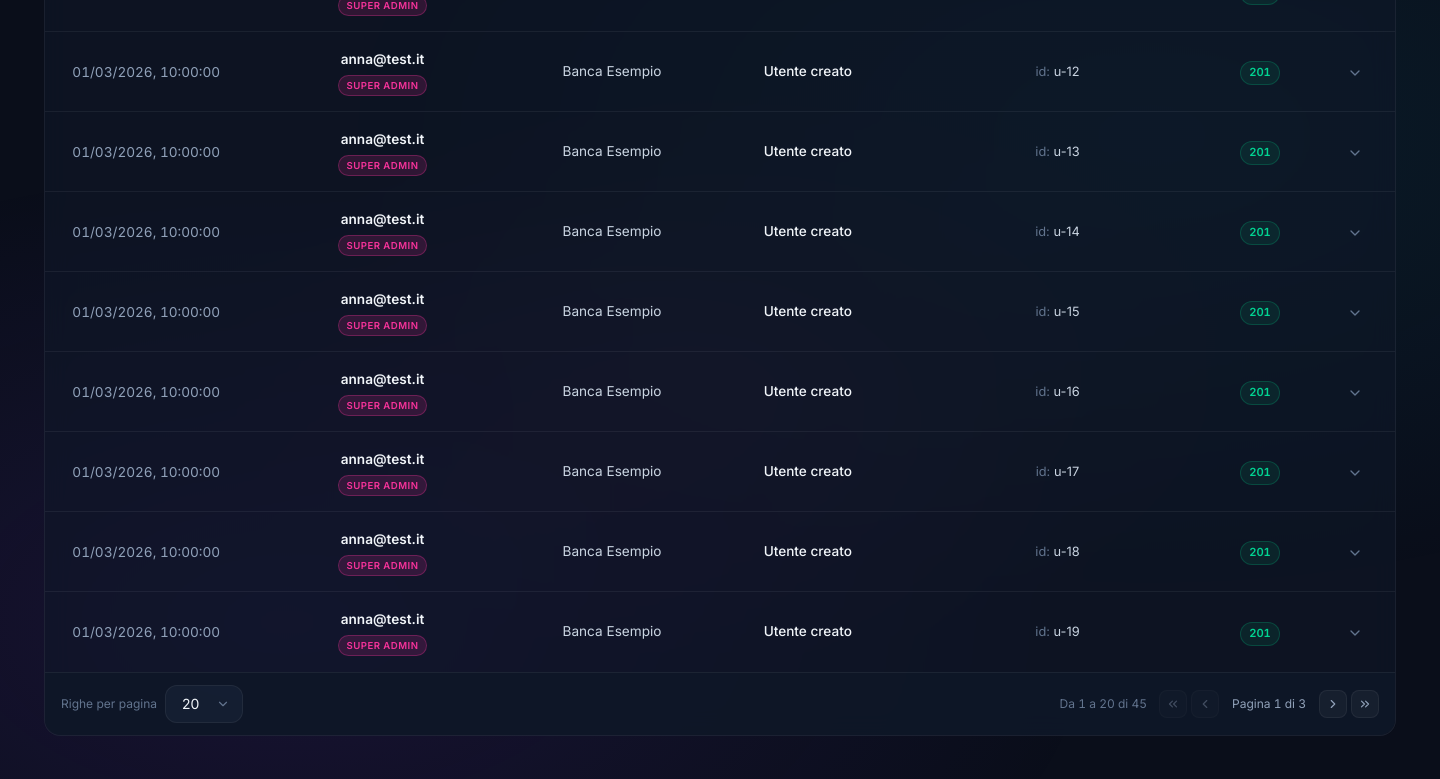
filtri › riporta alla prima pagina quando cambia un filtro
(page scrolled)
Click the button named "Pagina Successiva": (1333, 704) [1319, 690, 1347, 718]
(page scrolled)
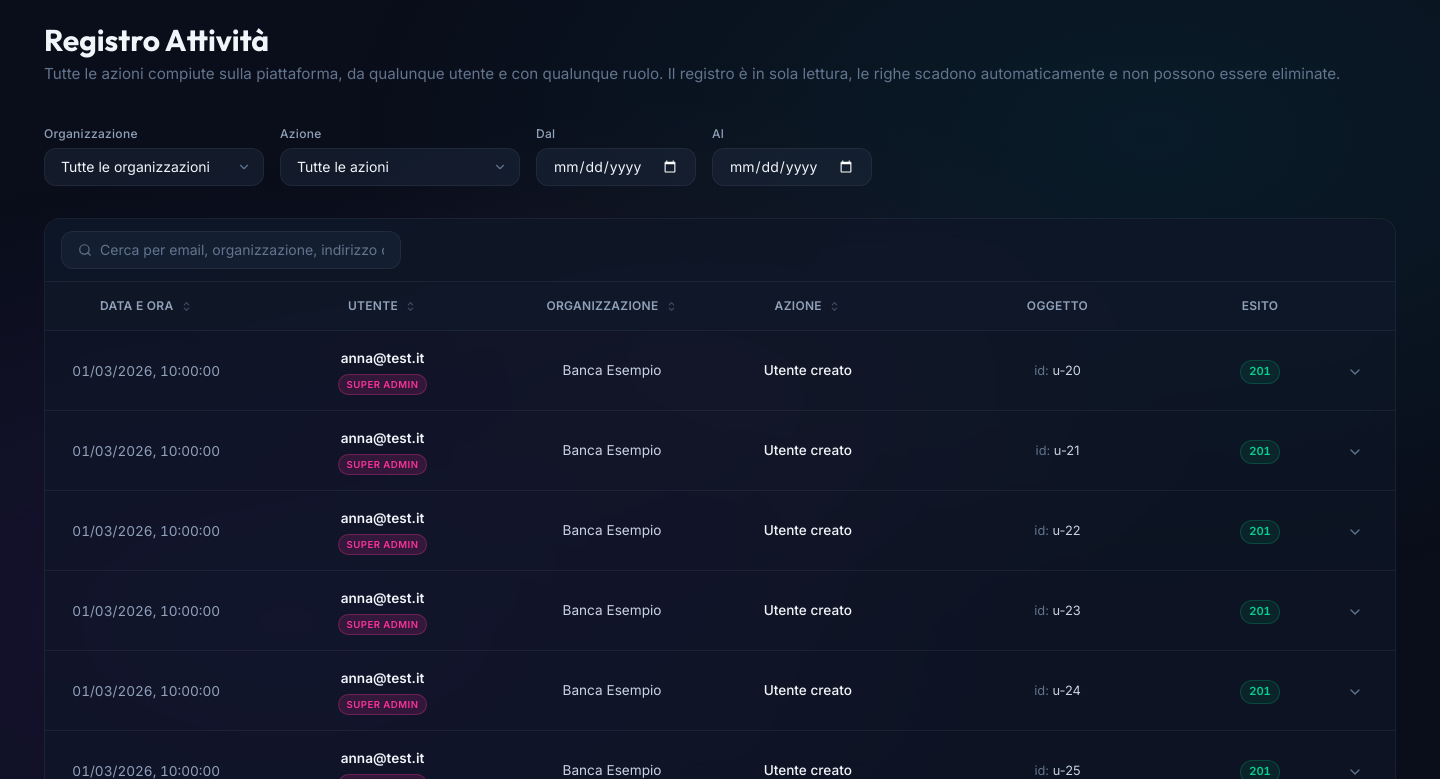
Click the dropdown named "Azione": (400, 167) [280, 148, 520, 186]
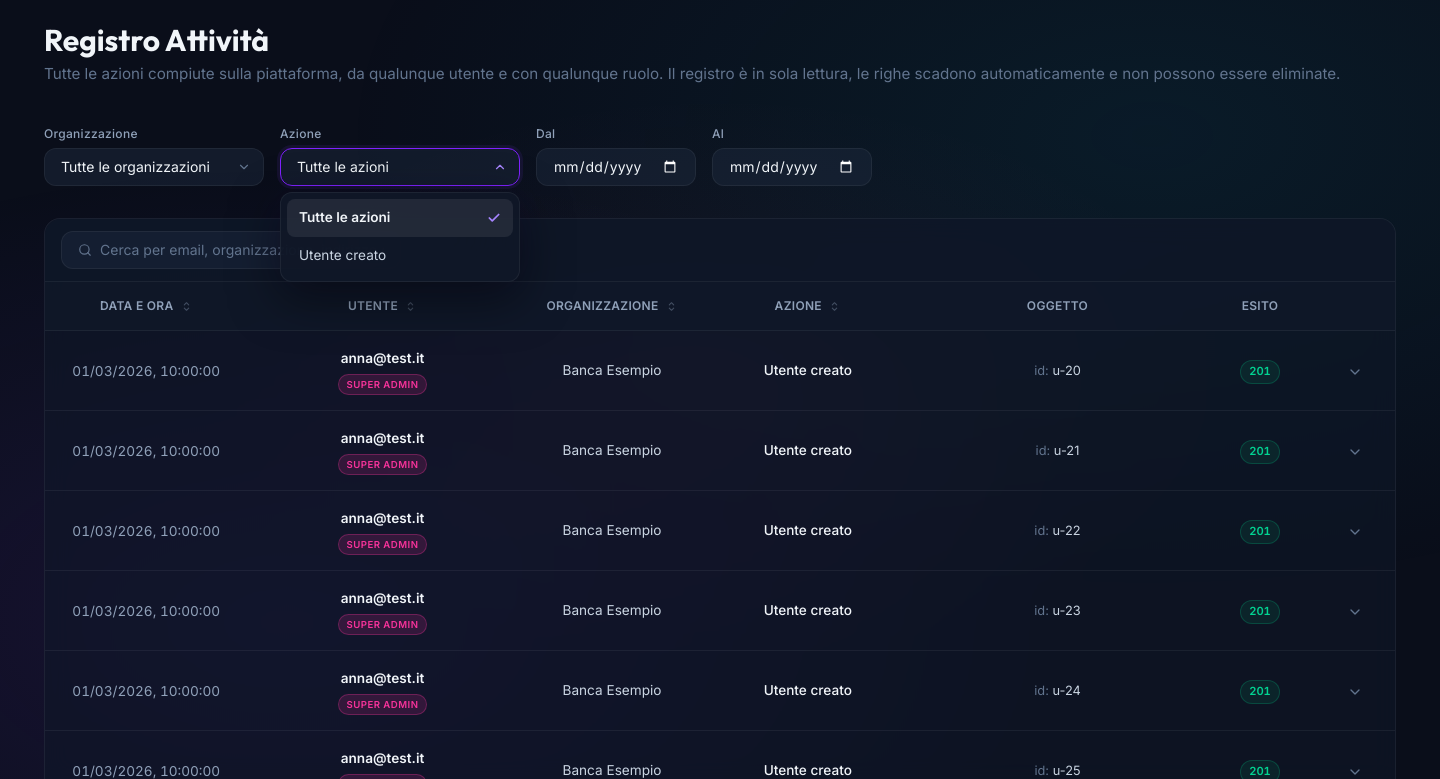
Click the option "Utente creato": (343, 255) [299, 247, 386, 263]
(page scrolled)
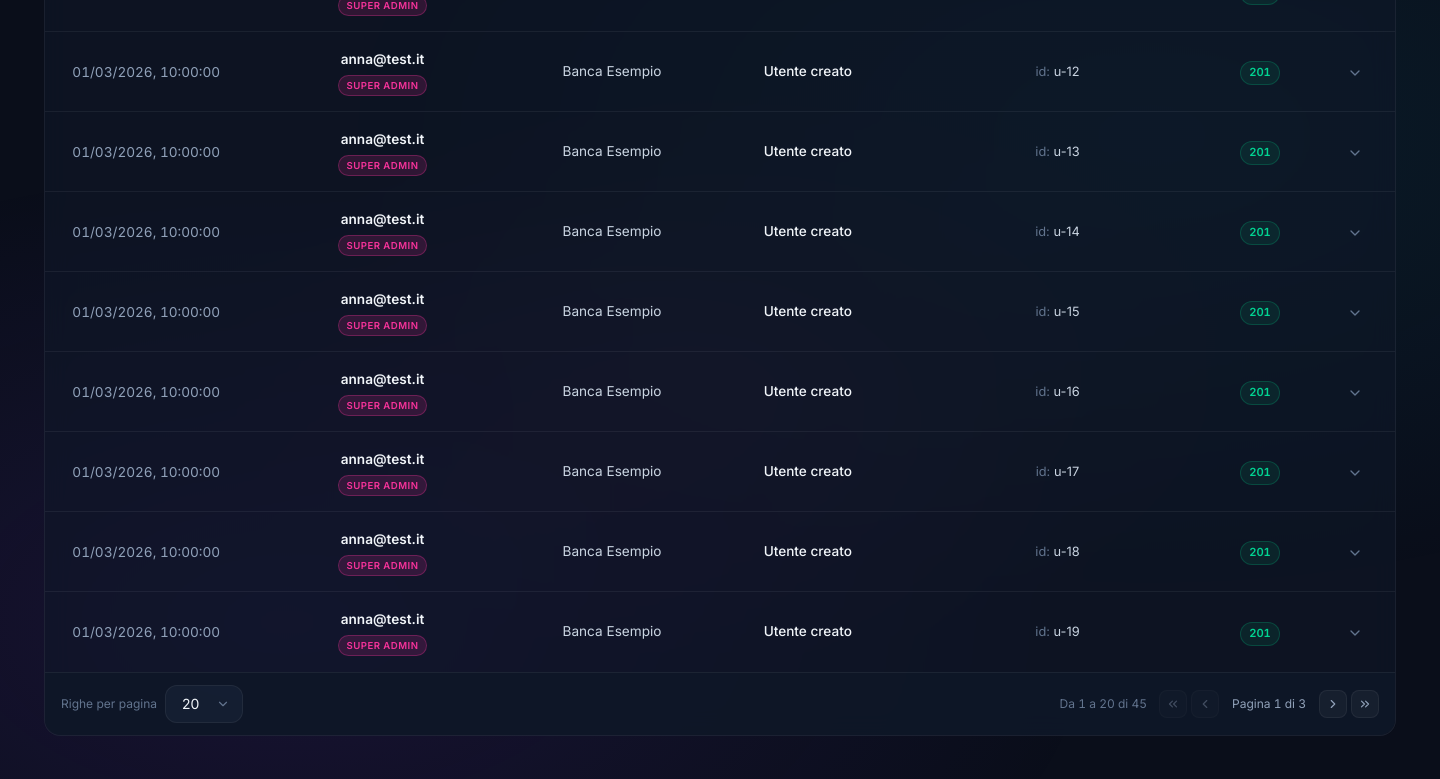
Check: the text "Da 1 a 20 di 45" is shown, box [1060, 696, 1147, 712]
